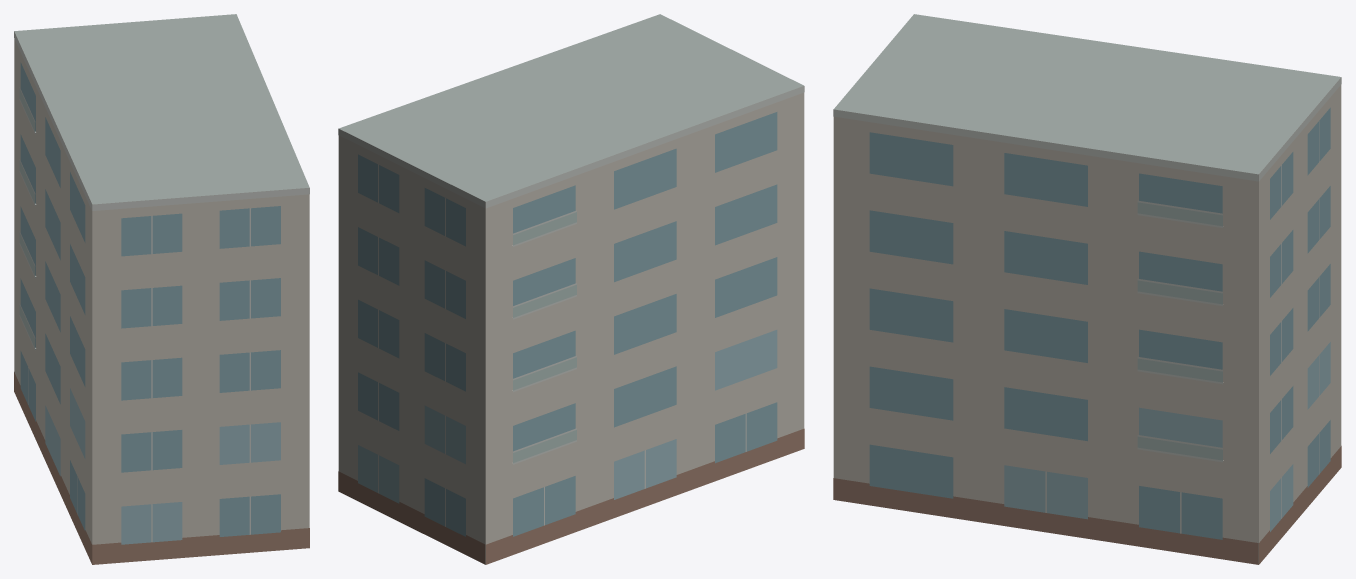
The model's file is survey-upis-32851878.glb.
The picture shows the model from 3 angles, left to right: view 1: azimuth 30°, elevation 25°; view 2: azimuth 150°, elevation 25°; view 3: azimuth 270°, elevation 25°; orthographic projection. The views are drawn at different scales.
Parts seen in each view (by area): view 1: survey-upis-32851878.tmp; view 2: survey-upis-32851878.tmp; view 3: survey-upis-32851878.tmp.
Boxes of the visible parts, left/top/right/bottom form: survey-upis-32851878.tmp: left=14, top=14, right=309, bottom=564; survey-upis-32851878.tmp: left=338, top=14, right=804, bottom=564; survey-upis-32851878.tmp: left=833, top=14, right=1341, bottom=564.
Size of the model in its own units: 11.73 by 13.3 by 15.69.
